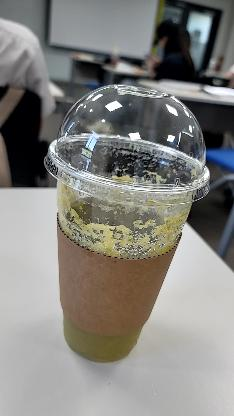Plastic Cup: (42, 79, 214, 365), (42, 81, 212, 210)
